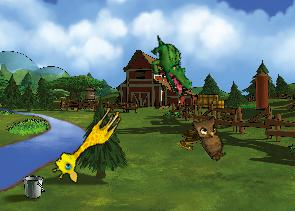crocodile: (136, 33, 205, 99)
giraffe: (48, 97, 125, 188)
owl: (187, 109, 237, 163)
